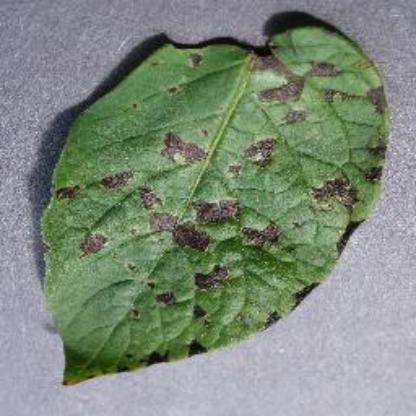Early-Blight: (38, 17, 398, 391)
